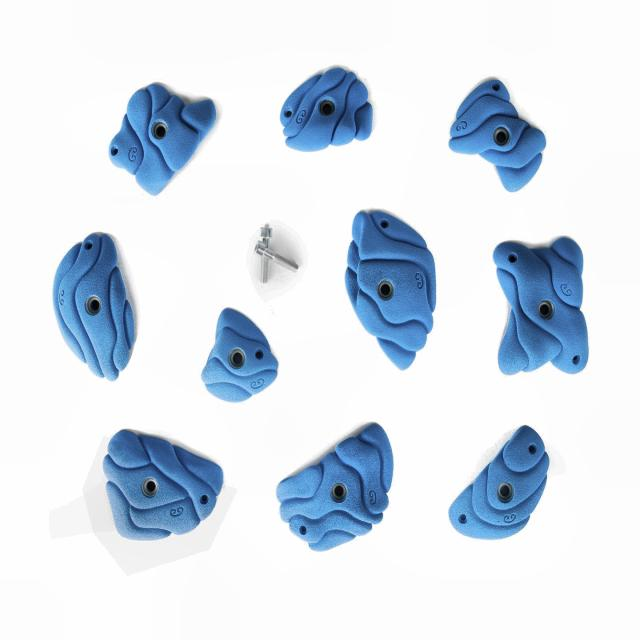Hold: (344, 209, 439, 369), (486, 232, 591, 376), (281, 417, 391, 554), (100, 421, 224, 536), (50, 236, 143, 379), (442, 77, 548, 197), (102, 84, 214, 197), (448, 423, 551, 538), (279, 67, 373, 154), (198, 313, 278, 401)
